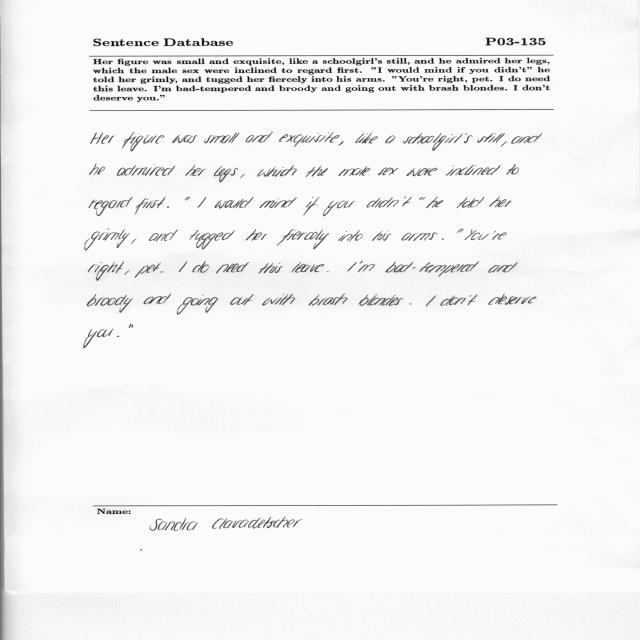word: (385, 262, 479, 277), (403, 133, 472, 151), (276, 229, 329, 249), (85, 229, 130, 251), (189, 230, 235, 250), (279, 132, 340, 147), (87, 294, 133, 313), (89, 197, 133, 216), (122, 133, 164, 152), (177, 295, 218, 314), (88, 261, 124, 281), (117, 164, 176, 176), (446, 165, 500, 176), (135, 197, 166, 215), (84, 329, 113, 348), (367, 196, 412, 208), (359, 294, 403, 306), (489, 294, 537, 305), (257, 165, 297, 177), (323, 201, 355, 216), (309, 294, 348, 306), (215, 197, 254, 208), (259, 197, 297, 208), (440, 295, 477, 306), (204, 133, 240, 144), (262, 294, 295, 306), (135, 263, 161, 278), (216, 262, 249, 273), (214, 167, 238, 182), (511, 133, 542, 144), (292, 262, 325, 272), (402, 232, 438, 241), (303, 197, 320, 216), (339, 166, 371, 176), (149, 230, 178, 241), (489, 262, 518, 273), (245, 132, 273, 143), (457, 197, 485, 208), (91, 132, 115, 144), (477, 133, 505, 143), (338, 230, 363, 241), (258, 263, 283, 274), (144, 294, 171, 304), (230, 294, 254, 305), (355, 133, 378, 144), (489, 197, 512, 208), (246, 229, 267, 241), (464, 230, 489, 240), (407, 168, 438, 176), (306, 166, 328, 177), (185, 165, 206, 176), (373, 230, 392, 241), (192, 261, 209, 273), (172, 135, 197, 143), (426, 197, 444, 208), (358, 261, 375, 272), (378, 168, 399, 176), (90, 164, 105, 175), (506, 164, 519, 175), (492, 231, 507, 240), (426, 295, 436, 306), (385, 135, 396, 144), (198, 197, 207, 208), (348, 262, 357, 272), (179, 261, 187, 272), (457, 228, 464, 233), (501, 141, 506, 147), (124, 270, 130, 275), (339, 141, 344, 146), (131, 239, 136, 244), (240, 174, 245, 178), (185, 197, 190, 201), (419, 197, 425, 200), (129, 324, 133, 328), (161, 271, 164, 273), (167, 206, 169, 208), (442, 238, 444, 240), (409, 304, 412, 305), (117, 336, 119, 337), (327, 272, 329, 272)
